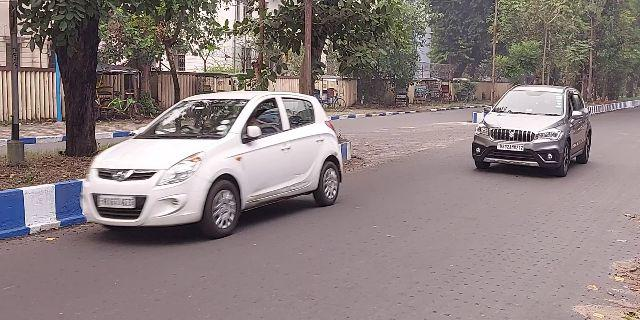Car: (81, 85, 350, 243), (466, 79, 597, 185)
